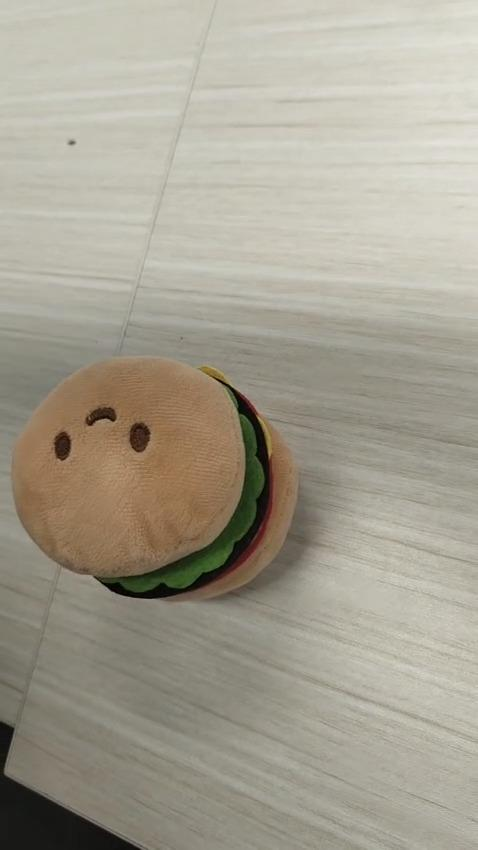hamburger: (10, 353, 299, 603)
